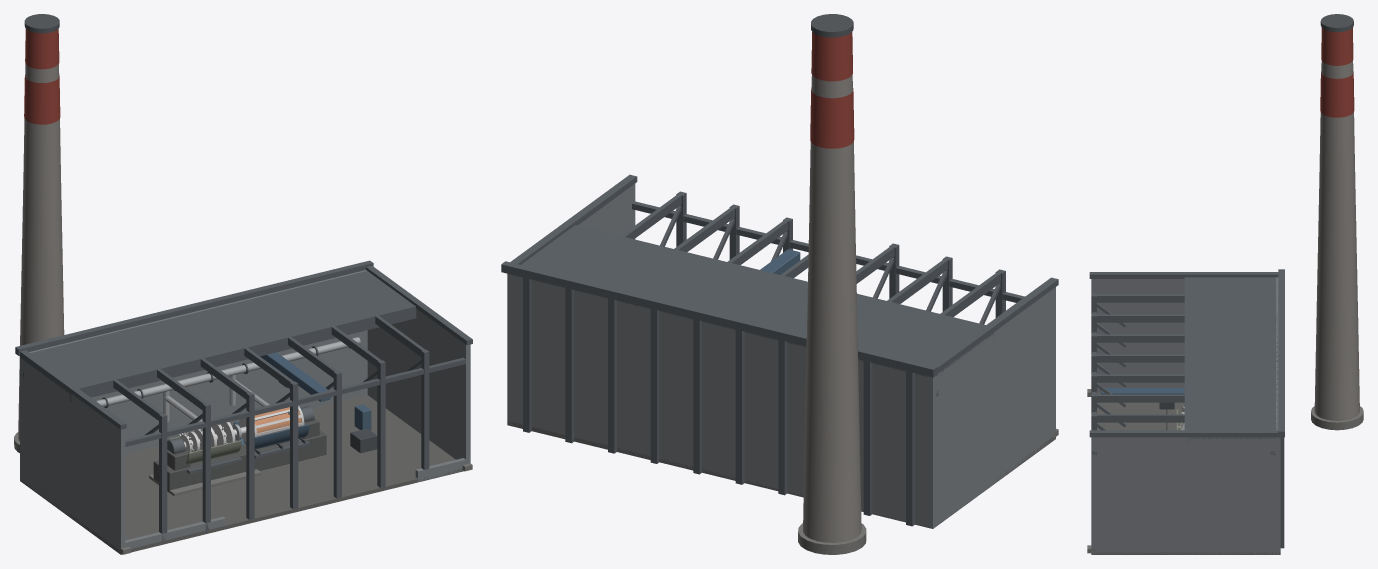
Rendered from power_plant.glb.
3 renders of one model, left to right at view 1: azimuth 30°, elevation 25°; view 2: azimuth 150°, elevation 25°; view 3: azimuth 270°, elevation 25°, orthographic. The views are drawn at different scales.
Parts seen in each view (by area): view 1: hall, stack, pedestal, generator_rotor_mesh, generator_stator; view 2: hall, stack; view 3: hall, stack.
Part boxes in pixels (left/top/right/bottom): hall: left=15, top=260, right=472, bottom=554; stack: left=14, top=14, right=64, bottom=452; pedestal: left=149, top=406, right=326, bottom=496; generator_rotor_mesh: left=179, top=405, right=304, bottom=452; generator_stator: left=169, top=421, right=309, bottom=473; hall: left=501, top=174, right=1058, bottom=528; stack: left=798, top=14, right=866, bottom=554; hall: left=1087, top=269, right=1284, bottom=554; stack: left=1311, top=14, right=1363, bottom=430.
Size of the model in its own units: 40.6 by 46.45 by 29.25.
